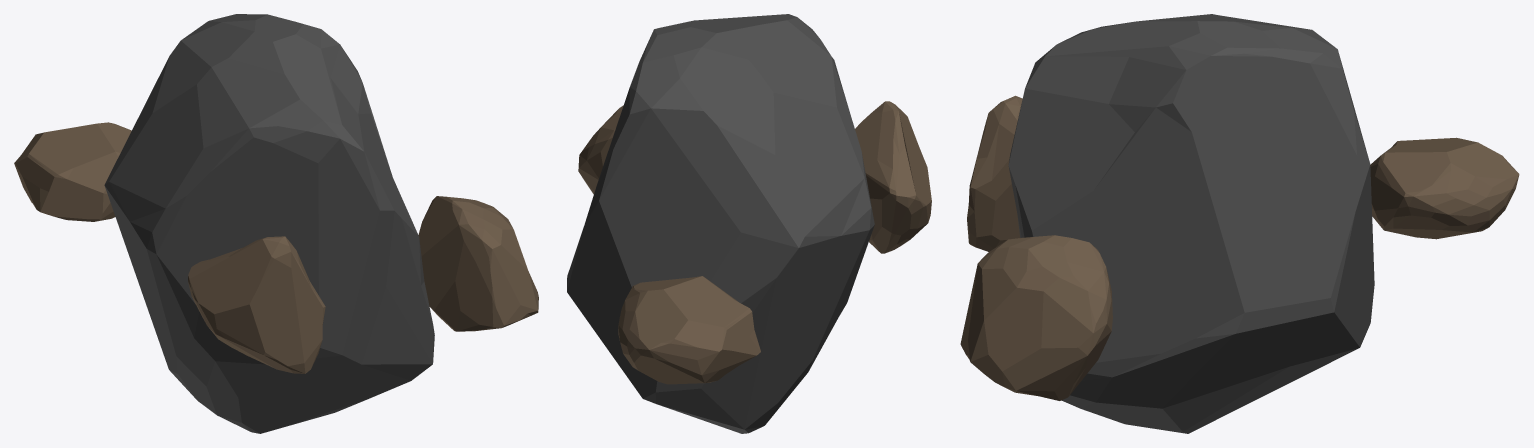
The model's file is Stones1.glb.
The picture shows the model from 3 angles, left to right: view 1: azimuth 30°, elevation 25°; view 2: azimuth 150°, elevation 25°; view 3: azimuth 270°, elevation 25°; orthographic projection. The views are drawn at different scales.
Visible parts, largest first — view 1: Stone_0, Stone_10, Stone_11, Stone_30; view 2: Stone_0, Stone_30, Stone_10, Stone_11; view 3: Stone_0, Stone_11, Stone_30, Stone_10.
Boxes of the visible parts, x1=… form: Stone_0: x1=104, y1=14, x2=434, y2=433; Stone_10: x1=188, y1=236, x2=325, y2=373; Stone_11: x1=418, y1=196, x2=538, y2=331; Stone_30: x1=14, y1=122, x2=131, y2=221; Stone_0: x1=567, y1=14, x2=874, y2=433; Stone_30: x1=618, y1=276, x2=760, y2=384; Stone_10: x1=855, y1=101, x2=931, y2=253; Stone_11: x1=578, y1=105, x2=623, y2=194; Stone_0: x1=1008, y1=14, x2=1374, y2=433; Stone_11: x1=960, y1=235, x2=1112, y2=400; Stone_30: x1=1370, y1=137, x2=1519, y2=239; Stone_10: x1=967, y1=95, x2=1022, y2=251.
Bounding box in the file's own units: 0.846 × 0.9643 × 1.16.
1 material, 1 textured.
